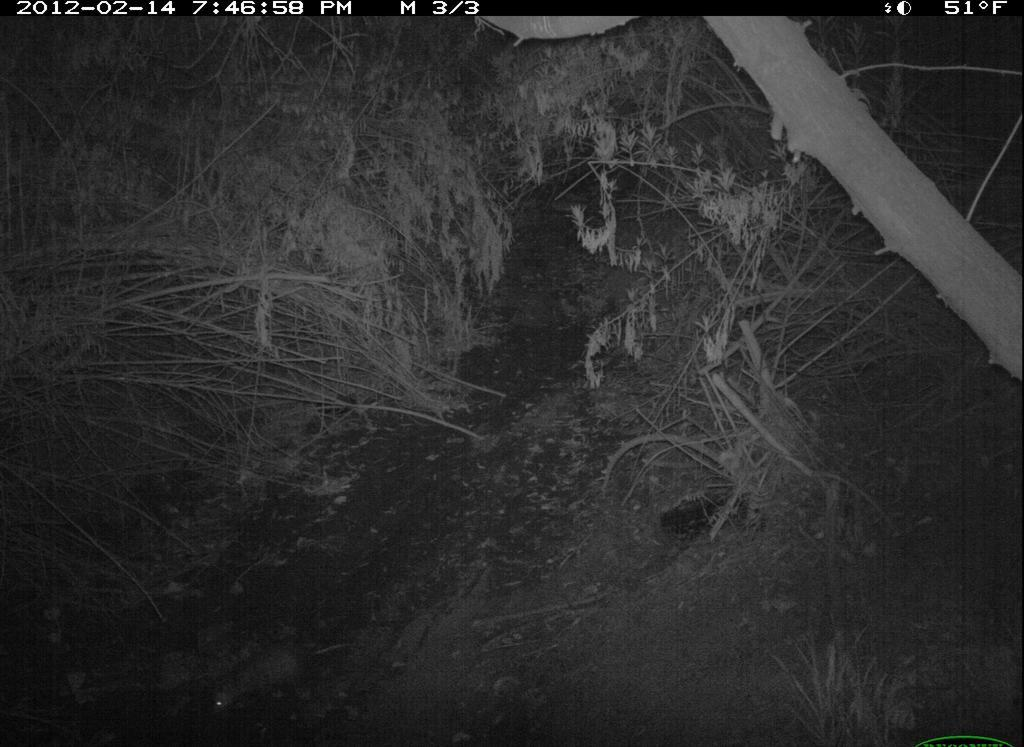opossum: (181, 619, 364, 724)
